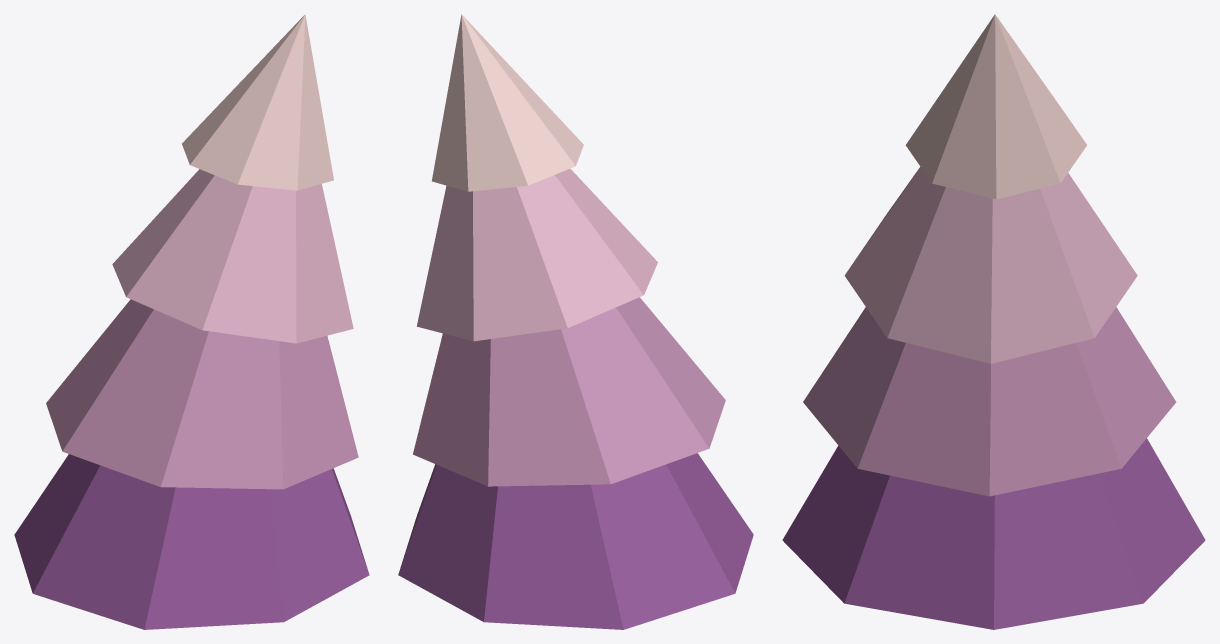
File: 01_01Tree_Purple.fbx
3 views of the same model, side by side, from view 1: azimuth 30°, elevation 25°; view 2: azimuth 150°, elevation 25°; view 3: azimuth 270°, elevation 25° (orthographic). The views are drawn at different scales.
Parts seen in each view (by area): view 1: Cone.001; view 2: Cone.001; view 3: Cone.001.
Part boxes in pixels (x1,y1,x2,y2): Cone.001: [14, 14, 369, 629]; Cone.001: [398, 14, 753, 629]; Cone.001: [782, 14, 1205, 629].
Bounding box in the file's own units: 125 × 192 × 125.
